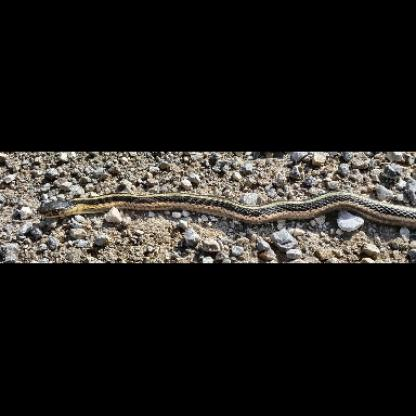Snake: (35, 187, 416, 230)
